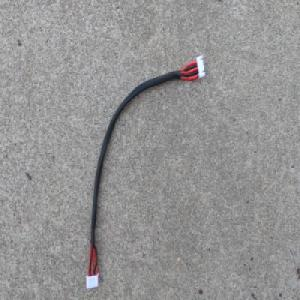Wire: (84, 51, 206, 290)
